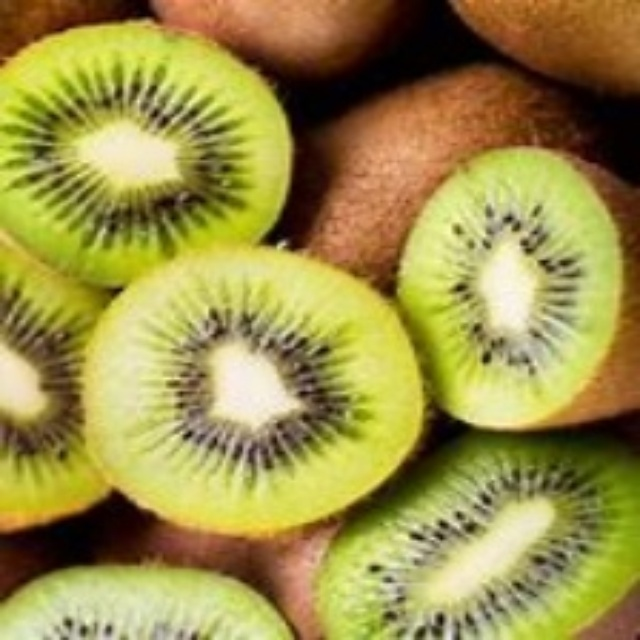kiwi: (73, 251, 443, 537), (304, 387, 638, 639), (4, 38, 305, 278), (385, 141, 639, 414)
